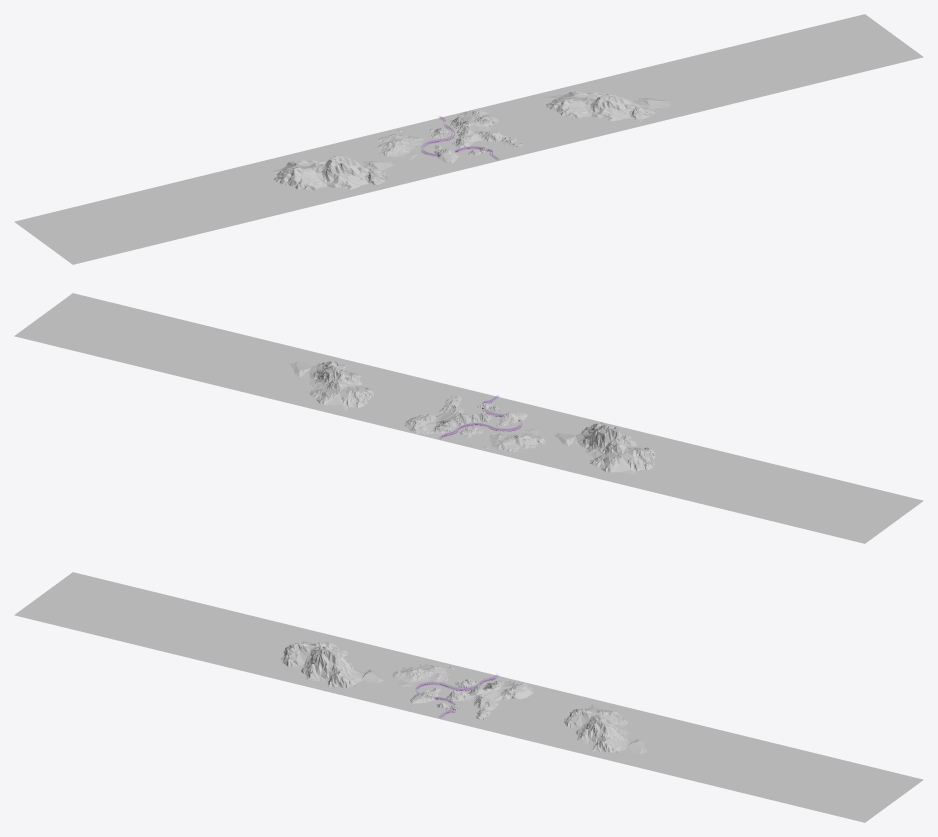
Rendered from Rock_3.FBX.
3 views of the same model, one above another, from view 1: azimuth 30°, elevation 25°; view 2: azimuth 150°, elevation 25°; view 3: azimuth 330°, elevation 25° (orthographic).
Parts seen in each view (by area): view 1: Plane029, Loft002; view 2: Plane029, Loft002; view 3: Plane029, Loft002.
Part boxes in pixels (box(x1,y1,x2,y2)): Plane029: box(14, 14, 923, 264); Loft002: box(270, 91, 674, 190); Plane029: box(14, 293, 923, 543); Loft002: box(290, 359, 656, 474); Plane029: box(14, 572, 923, 822); Loft002: box(281, 641, 647, 756).
Bounding box in the file's own units: 20000 × 2400 × 493.
